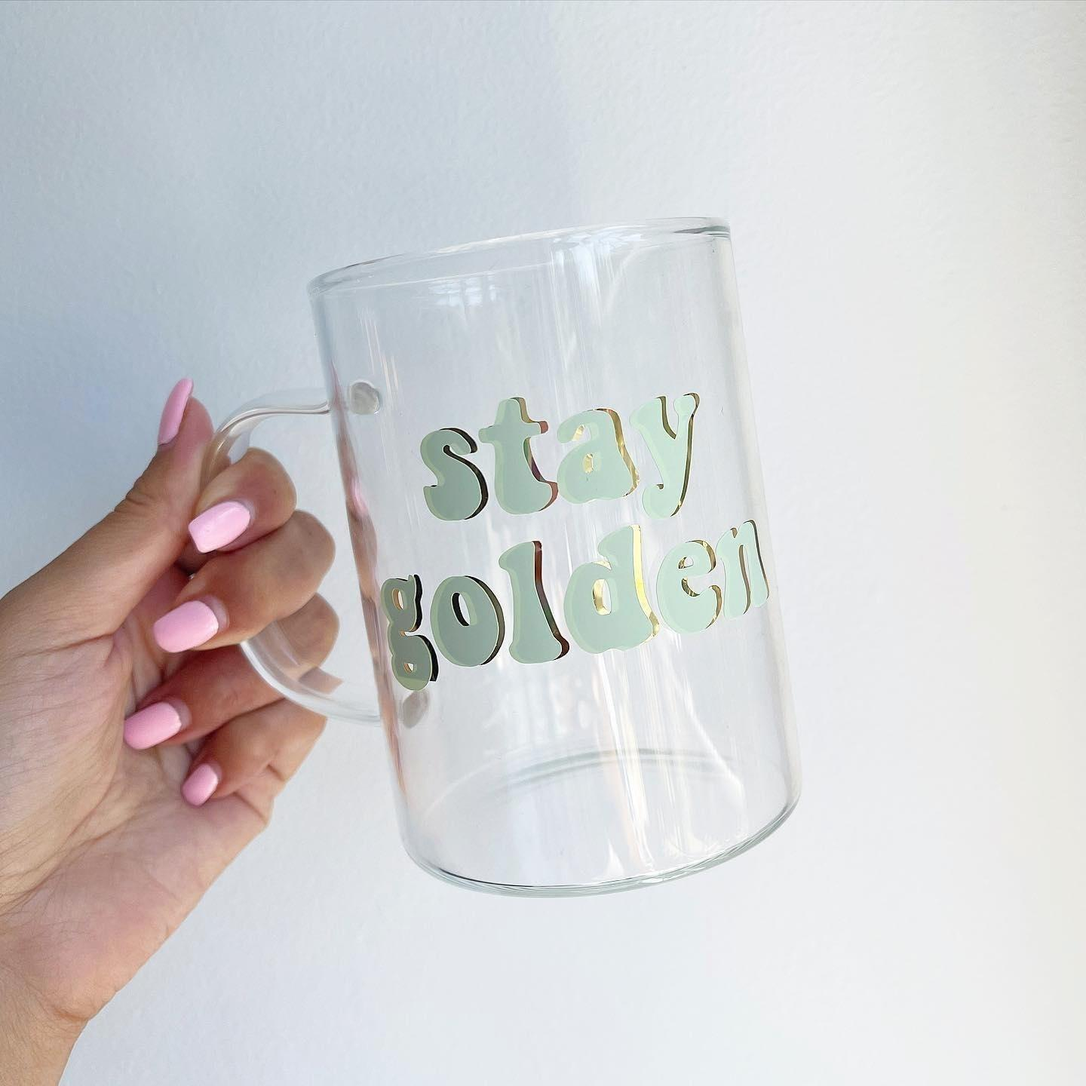glass-mug: (185, 203, 810, 926)
